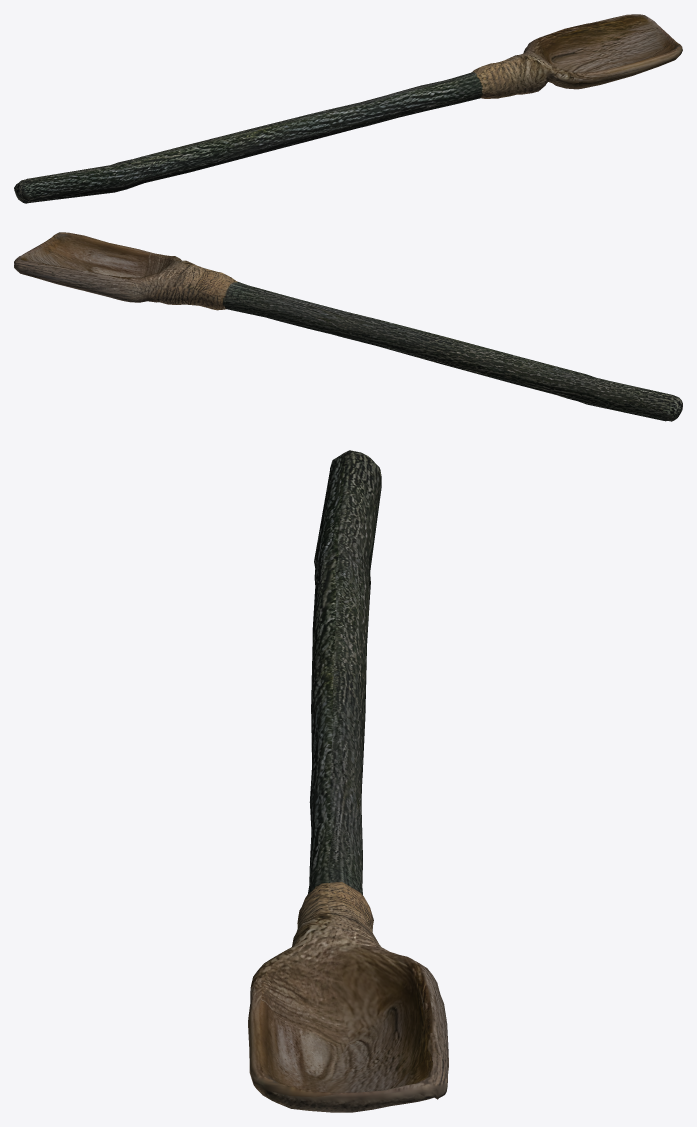
File: woodshovel.fbx
3 views of the same model, one above another, from view 1: azimuth 30°, elevation 25°; view 2: azimuth 150°, elevation 25°; view 3: azimuth 270°, elevation 25° (orthographic). The views are drawn at different scales.
Parts seen in each view (by area): view 1: mesh_rep_0_ori_repair; view 2: mesh_rep_0_ori_repair; view 3: mesh_rep_0_ori_repair.
Boxes of the visible parts, bbox=[...] form: mesh_rep_0_ori_repair: bbox=[14, 14, 682, 203]; mesh_rep_0_ori_repair: bbox=[14, 232, 682, 421]; mesh_rep_0_ori_repair: bbox=[248, 450, 448, 1112].
Bounding box in the file's own units: 119 × 7.8 × 15.87.
